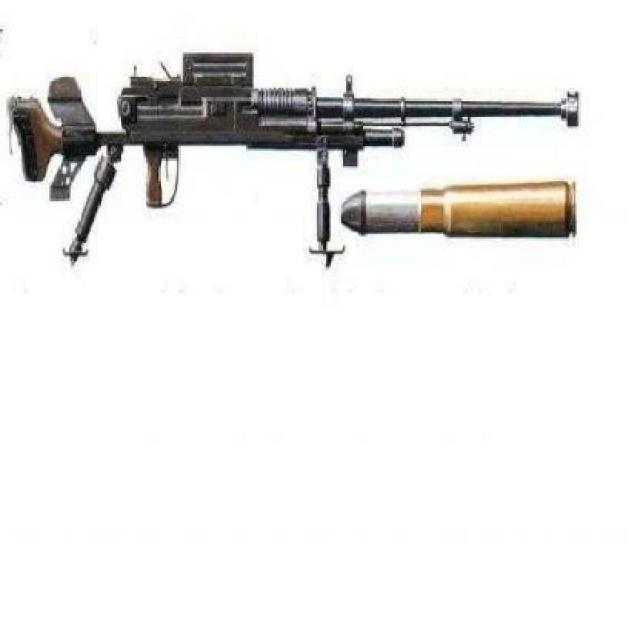weapon: (4, 47, 581, 265)
